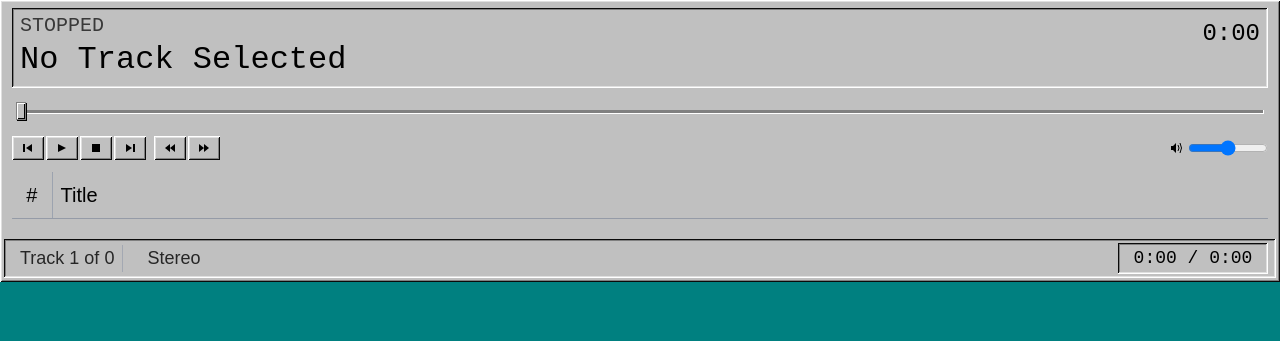
Test: MusicPlayer › toggles play state when play button is clicked
The width and height of the screenshot is (1280, 341).
Click the button titled "Play" at (62, 148), box [46, 136, 78, 160]
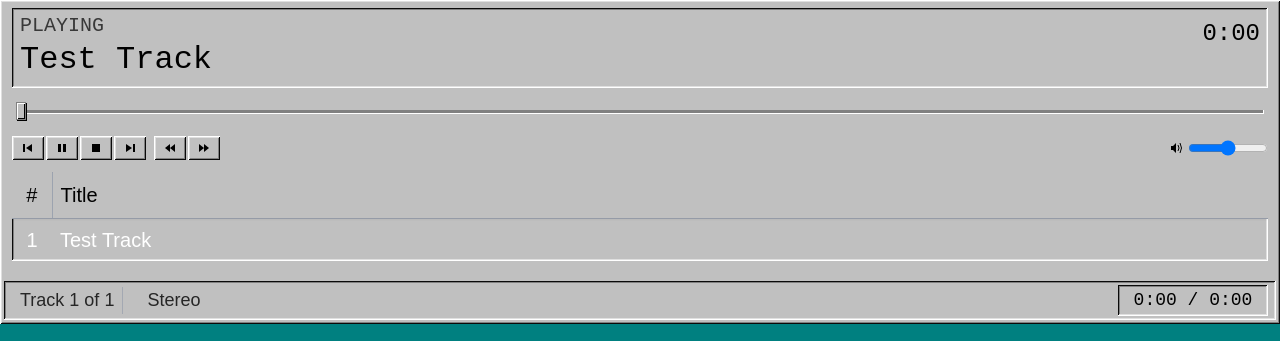
Check: the button titled "Pause" is shown, box [46, 136, 78, 160]
